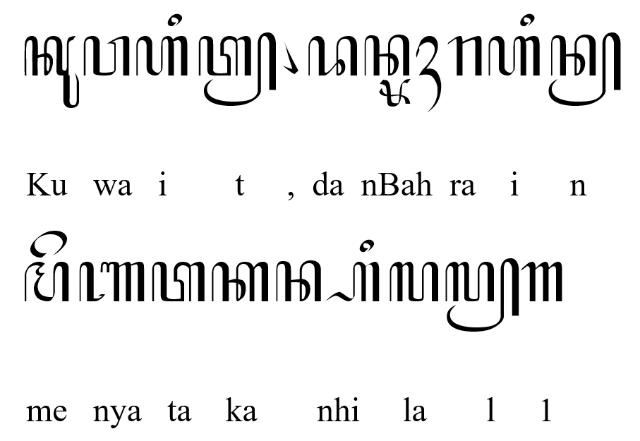-l: (444, 258, 520, 332)
-n: (548, 33, 622, 107)
-t: (198, 31, 276, 107)
B: (379, 80, 411, 107)
Ku: (24, 34, 80, 110)
_h: (326, 260, 380, 302)
_h1: (416, 35, 442, 113)
d: (307, 34, 358, 76)
e: (30, 229, 68, 259)
g: (522, 261, 564, 303)
h: (135, 35, 189, 77), (488, 35, 540, 77)
i: (520, 13, 536, 29), (168, 12, 182, 26), (360, 240, 374, 252)
k: (210, 260, 270, 302)
kom: (281, 40, 299, 74)
l: (389, 261, 439, 301)
m: (24, 260, 70, 302)
n: (274, 259, 322, 303), (364, 35, 411, 77)
ny1: (78, 261, 146, 303)
r: (448, 35, 482, 76)
t: (151, 261, 207, 303)
w: (84, 35, 130, 77)
